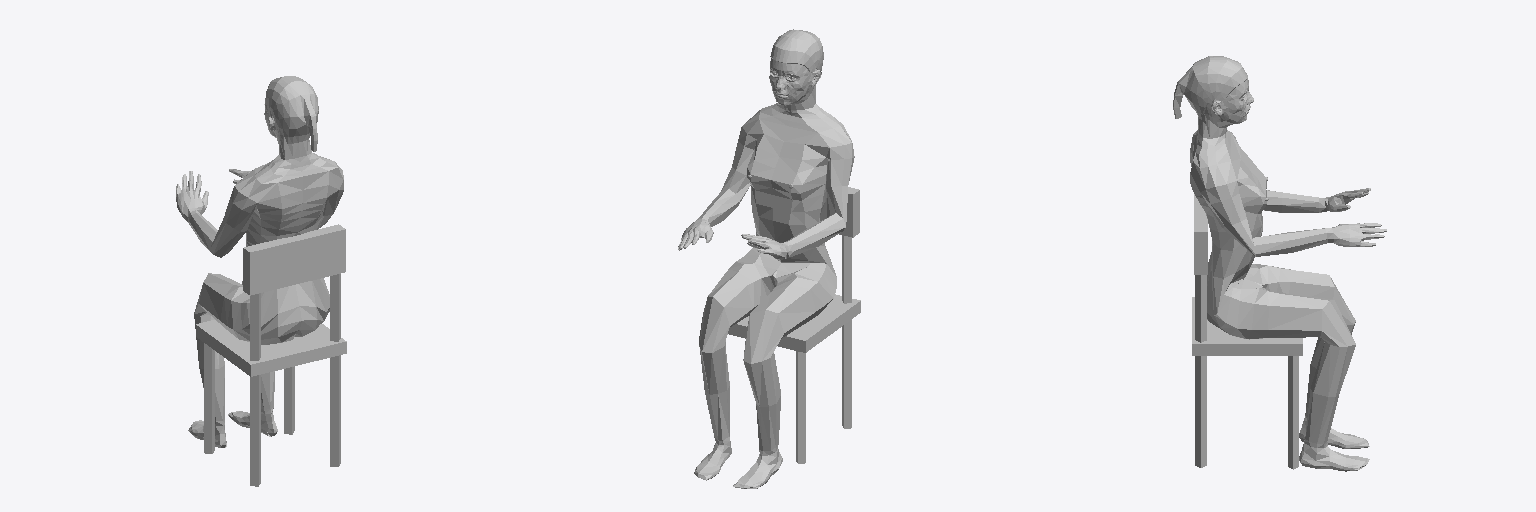
The model's file is personsit_000002.obj.
The picture shows the model from 3 angles: view 1: azimuth 30°, elevation 25°; view 2: azimuth 150°, elevation 25°; view 3: azimuth 270°, elevation 25°; orthographic projection.
Visible parts, largest first — view 1: Cube, Cube.001_Cube.002; view 2: Cube, Cube.001_Cube.002; view 3: Cube, Cube.001_Cube.002.
Boxes of the visible parts, box(x1,y1,x2,y2) form: Cube: box(176, 76, 343, 447); Cube.001_Cube.002: box(196, 224, 346, 486); Cube: box(678, 29, 854, 488); Cube.001_Cube.002: box(725, 187, 860, 463); Cube: box(1173, 56, 1386, 471); Cube.001_Cube.002: box(1192, 194, 1302, 469).
Size of the model in its own units: 24.43 by 74.4 by 36.27.